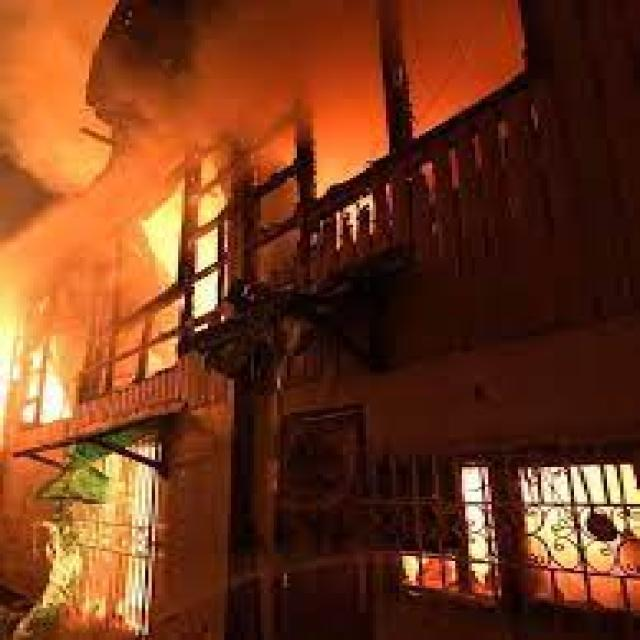Fire: (0, 302, 89, 465)
Smoke: (9, 4, 444, 266)
